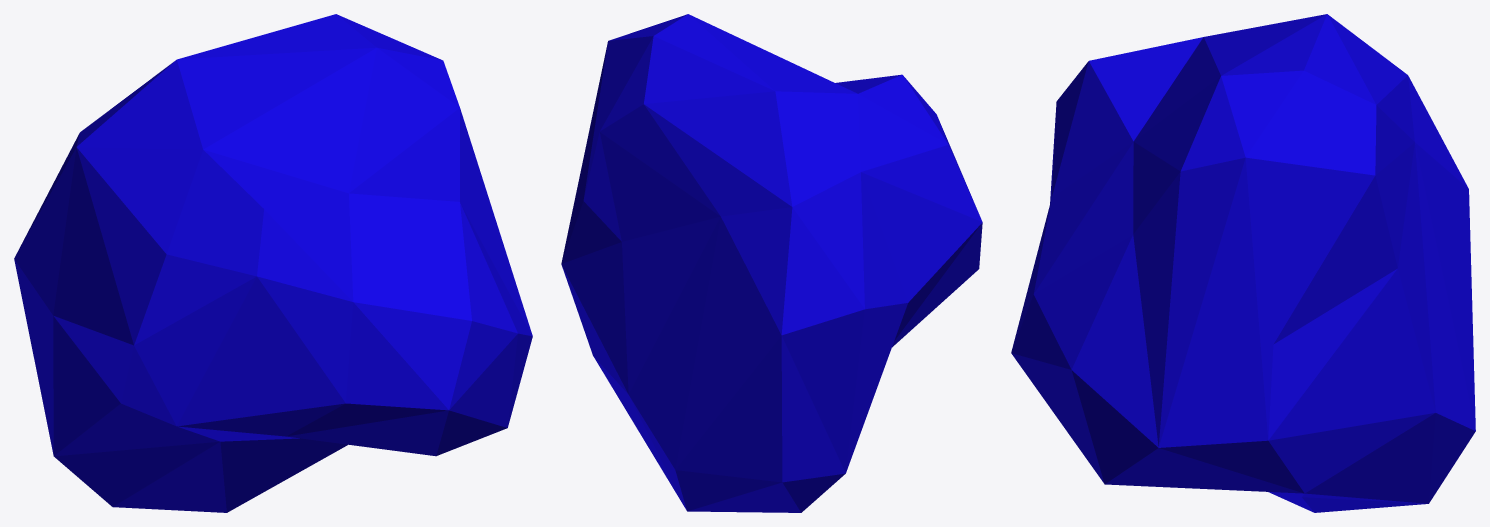
Rendered from Rock1.fbx.
The picture shows the model from 3 angles, left to right: view 1: azimuth 30°, elevation 25°; view 2: azimuth 150°, elevation 25°; view 3: azimuth 270°, elevation 25°; orthographic projection. The views are drawn at different scales.
Parts seen in each view (by area): view 1: Rock_1; view 2: Rock_1; view 3: Rock_1.
Boxes of the visible parts, x1=… form: Rock_1: x1=14, y1=14, x2=532, y2=512; Rock_1: x1=561, y1=14, x2=982, y2=512; Rock_1: x1=1011, y1=14, x2=1475, y2=512.
Size of the model in its own units: 74.28 by 82.15 by 69.89.
